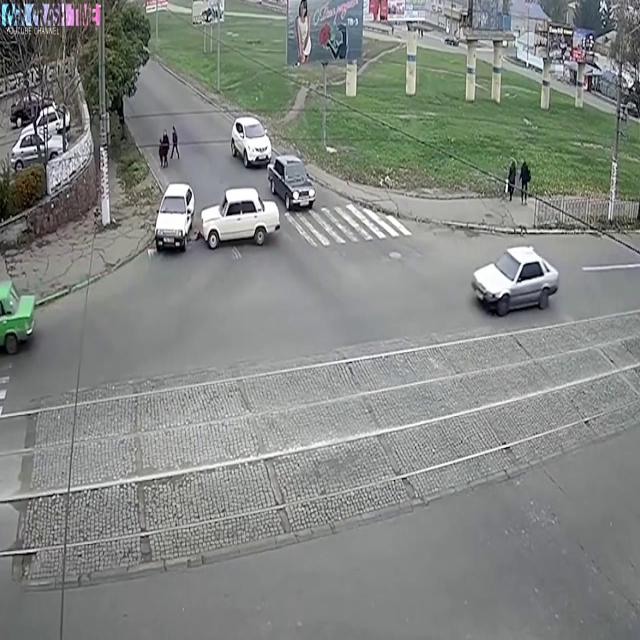accident: (147, 175, 284, 259)
